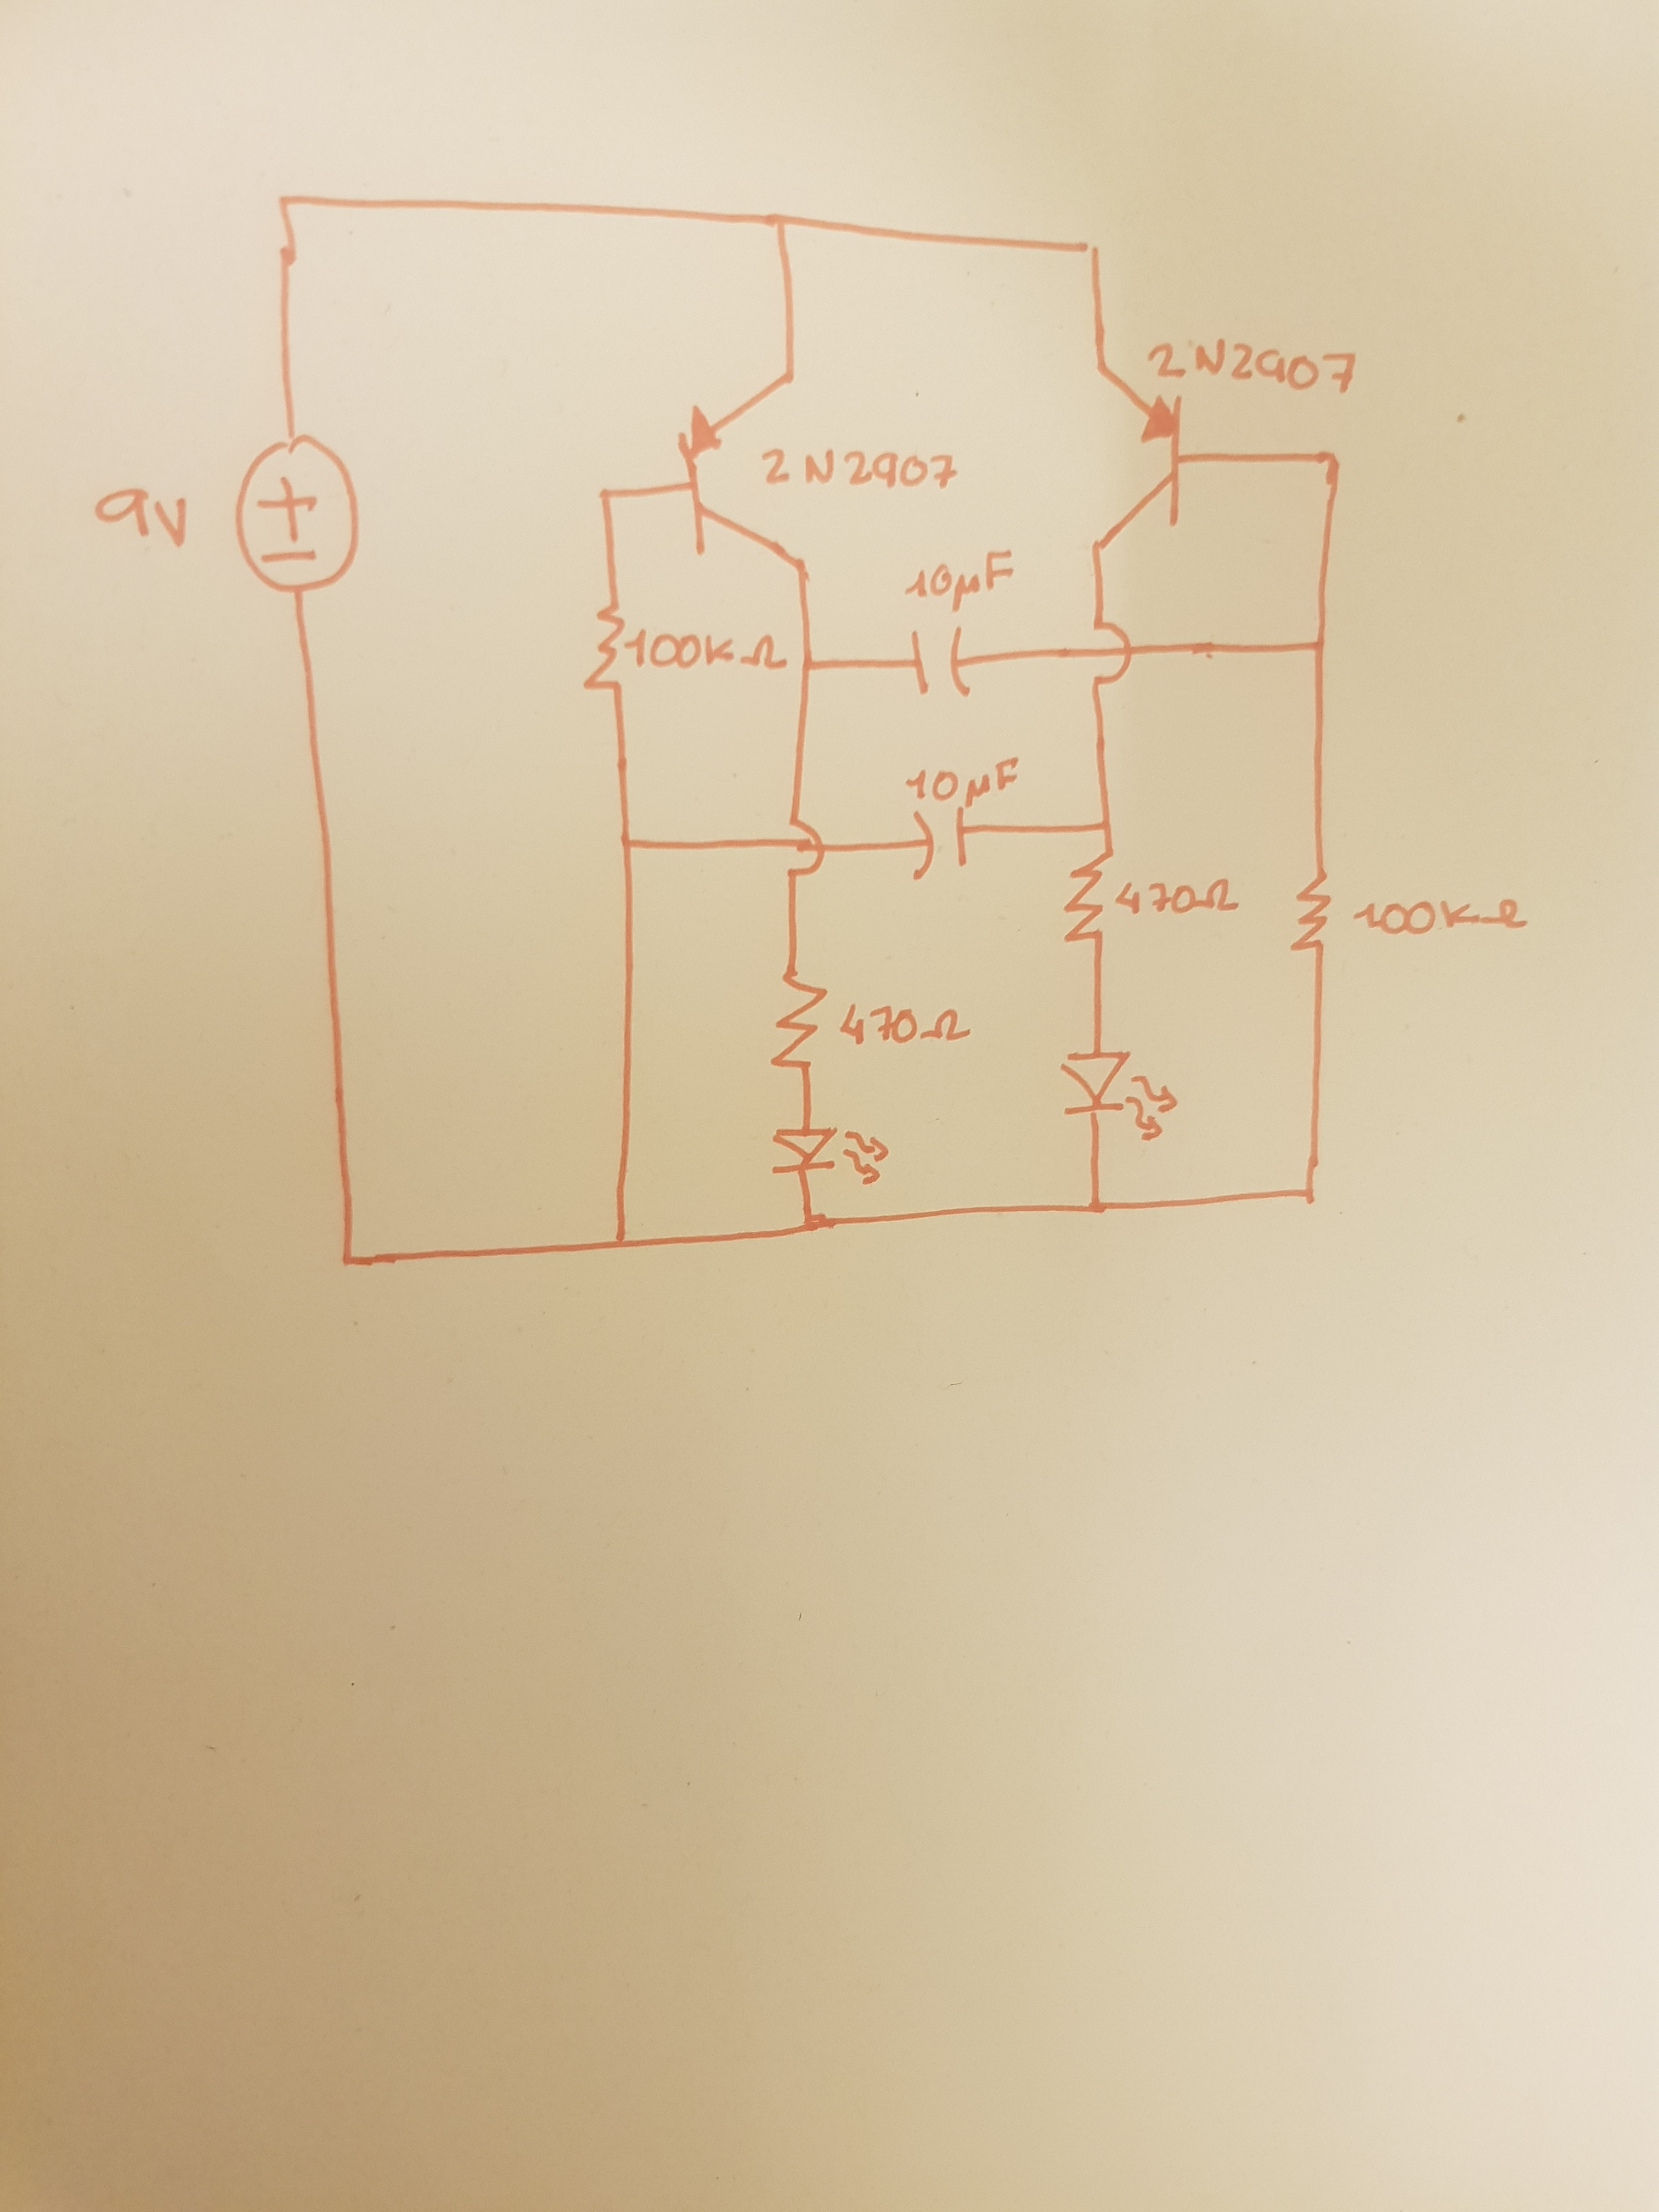capacitor.unpolarized: (903, 624, 978, 702), (904, 803, 974, 885)
crossover: (1084, 618, 1134, 697), (781, 817, 830, 888)
diode.light_emitting: (1054, 1047, 1183, 1144), (767, 1122, 889, 1190)
junction: (324, 1242, 371, 1282), (601, 1226, 638, 1270), (765, 204, 798, 242), (791, 1211, 828, 1244), (270, 188, 303, 219), (1295, 1179, 1321, 1212), (612, 829, 641, 857), (1077, 233, 1105, 263), (1321, 448, 1347, 475), (1309, 632, 1331, 662), (1084, 1195, 1108, 1221), (596, 484, 619, 510), (1093, 819, 1122, 838), (800, 657, 823, 681)
resistor: (765, 960, 838, 1083), (577, 592, 631, 702), (1053, 860, 1114, 953), (1291, 866, 1340, 965)
text: (1143, 336, 1368, 404), (758, 444, 962, 500), (1351, 892, 1532, 939), (901, 542, 1019, 610), (629, 632, 784, 678), (87, 482, 199, 543), (833, 1007, 971, 1055), (899, 752, 1023, 806), (1100, 876, 1244, 918)
transistor: (667, 354, 819, 585), (1079, 350, 1190, 559)
voltage.dc: (225, 428, 366, 597)
